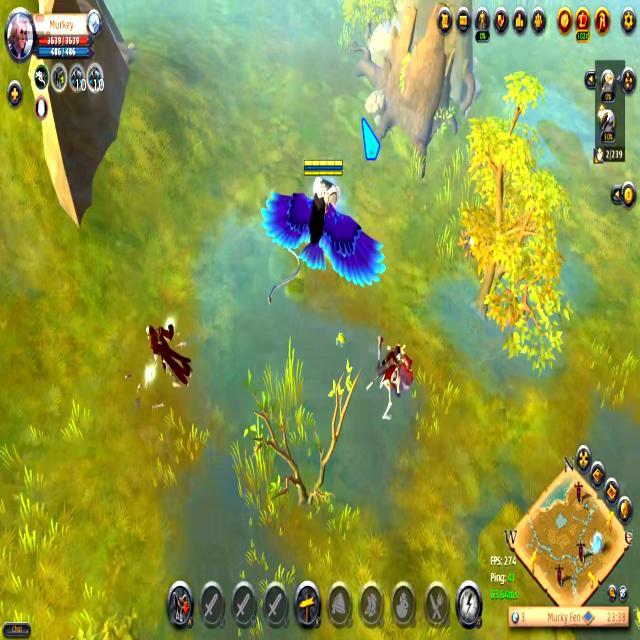hide: (459, 220, 485, 268)
ore: (136, 311, 194, 393), (375, 333, 410, 433)
red: (256, 158, 391, 297)
